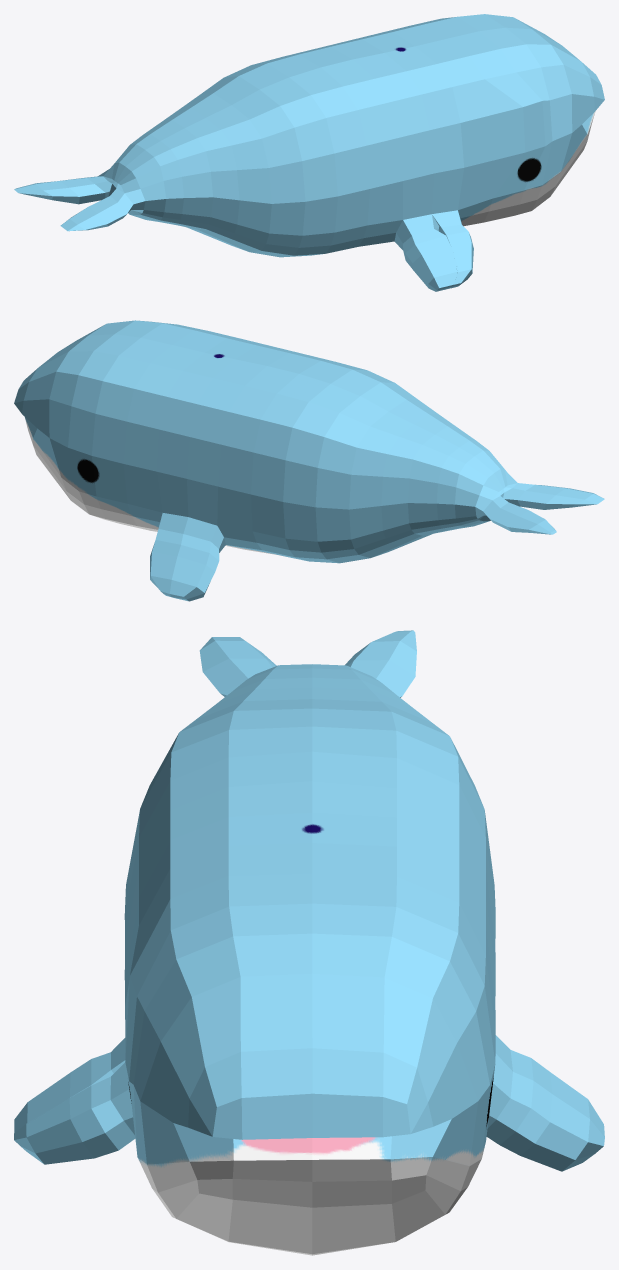
File: whale.fbx
The picture shows the model from 3 angles, top to bottom: view 1: azimuth 30°, elevation 25°; view 2: azimuth 150°, elevation 25°; view 3: azimuth 270°, elevation 25°; orthographic projection. The views are drawn at different scales.
Visible parts, largest first — view 1: node_id4; view 2: node_id4; view 3: node_id4.
Boxes of the visible parts, box(x1,y1,x2,y2) form: node_id4: box(14, 14, 604, 291); node_id4: box(14, 320, 604, 601); node_id4: box(14, 630, 604, 1255).
Size of the model in its own units: 0.3141 by 0.1026 by 0.1554.
Materials: 1 (1 with a texture image).
